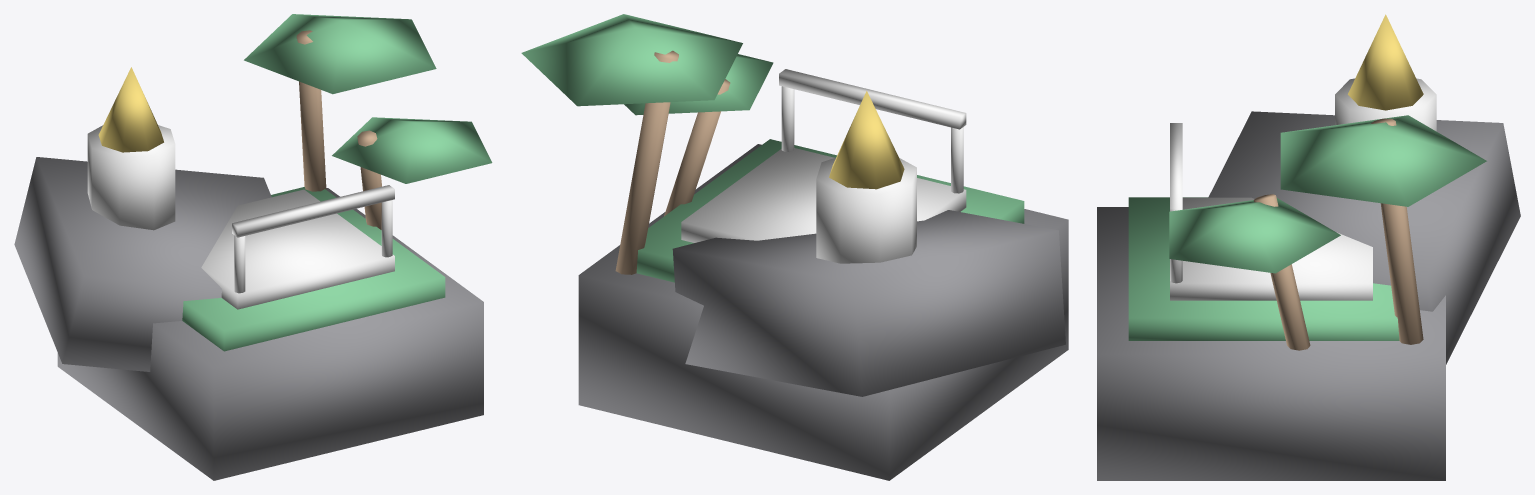
Rendered from promthep_cape.glb.
The picture shows the model from 3 angles, left to right: view 1: azimuth 30°, elevation 25°; view 2: azimuth 150°, elevation 25°; view 3: azimuth 270°, elevation 25°; orthographic projection. The views are drawn at different scales.
Visible parts, largest first — view 1: rock1, rock2, deck, soil_top, palm_leaf1, palm_leaf2, beacon_base, beacon_spire, rail_top, palm_tr1, palm_tr2, rail_l (+1 smaller); view 2: rock2, rock1, palm_leaf1, deck, beacon_base, soil_top, palm_tr1, beacon_spire, rail_top, palm_leaf2, palm_tr2, rail_r (+1 smaller); view 3: rock1, rock2, soil_top, palm_leaf1, palm_leaf2, deck, beacon_spire, palm_tr1, beacon_base, palm_tr2, rail_top.
Boxes of the visible parts, x1,y1,x2,y2 form: rock1: (57, 188, 483, 480); rock2: (14, 157, 271, 371); deck: (201, 189, 394, 309); soil_top: (182, 187, 445, 351); palm_leaf1: (244, 14, 436, 94); palm_leaf2: (332, 117, 492, 183); beacon_base: (87, 125, 175, 230); beacon_spire: (98, 67, 163, 152); rail_top: (232, 185, 394, 237); palm_tr1: (296, 30, 326, 191); palm_tr2: (357, 130, 381, 229); rail_l: (234, 235, 245, 293); rock2: (672, 210, 1065, 396); rock1: (578, 144, 1068, 480); palm_leaf1: (521, 14, 742, 106); deck: (681, 148, 966, 242); beacon_base: (816, 157, 916, 263); soil_top: (636, 139, 1024, 282); palm_tr1: (615, 50, 678, 274); beacon_spire: (829, 91, 904, 189); rail_top: (779, 69, 966, 129); palm_leaf2: (624, 54, 773, 115); palm_tr2: (664, 79, 730, 216); rail_r: (781, 86, 794, 152); rock1: (1097, 207, 1445, 480); rock2: (1208, 111, 1520, 364); soil_top: (1128, 197, 1399, 340); palm_leaf1: (1280, 115, 1486, 206); palm_leaf2: (1169, 198, 1340, 273); deck: (1170, 197, 1372, 300); beacon_spire: (1348, 14, 1423, 110); palm_tr1: (1371, 118, 1423, 344); beacon_base: (1335, 78, 1436, 131); palm_tr2: (1253, 194, 1310, 350); rail_top: (1170, 123, 1182, 211).
Size of the model in its own units: 0.8393 by 0.6 by 0.6681.
